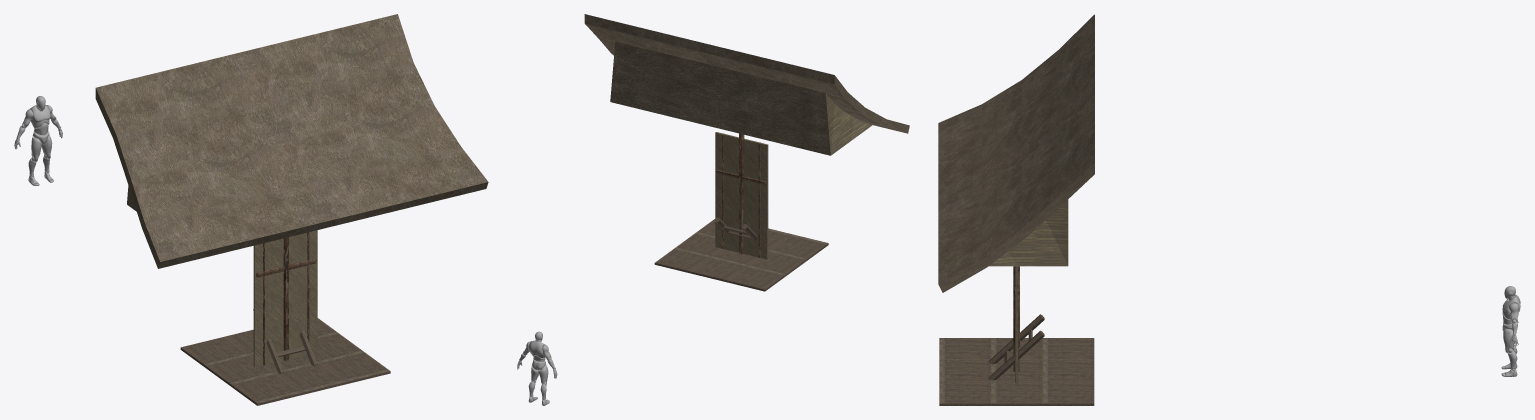
File: HouseModular.fbx
3 views of the same model, side by side, from view 1: azimuth 30°, elevation 25°; view 2: azimuth 150°, elevation 25°; view 3: azimuth 270°, elevation 25° (orthographic). The views are drawn at different scales.
Parts seen in each view (by area): view 1: roof, floorLarge, wall_support, wall_diagonal, UE4guy, wall_main, frame_pillar, stairs, floorSmall; view 2: roofBase, roof, floorLarge, wall_support, wall_main, wall_diagonal, UE4guy, frame_pillar, floorSmall, stairs; view 3: roof, floorLarge, roofBase, UE4guy, stairs, floorSmall.
Part boxes in pixels (<box>): roof: <box>95,14,488,268</box>; floorLarge: <box>180,318,390,405</box>; wall_support: <box>263,232,309,365</box>; wall_diagonal: <box>253,230,317,367</box>; UE4guy: <box>14,96,62,185</box>; wall_main: <box>266,233,307,361</box>; frame_pillar: <box>283,237,288,360</box>; stairs: <box>253,309,317,373</box>; floorSmall: <box>251,354,319,373</box>; roofBase: <box>610,41,872,155</box>; roof: <box>584,14,909,133</box>; floorLarge: <box>654,219,828,291</box>; wall_support: <box>722,133,760,257</box>; wall_main: <box>723,134,759,257</box>; wall_diagonal: <box>715,132,768,259</box>; UE4guy: <box>517,331,557,405</box>; frame_pillar: <box>739,133,744,254</box>; floorSmall: <box>713,249,770,264</box>; stairs: <box>715,217,757,240</box>; roof: <box>938,14,1094,292</box>; floorLarge: <box>939,338,1094,405</box>; roofBase: <box>989,199,1068,266</box>; UE4guy: <box>1501,286,1520,376</box>; stairs: <box>988,314,1044,380</box>; floorSmall: <box>991,360,1042,381</box>.
Size of the model in its own units: 740 by 656 by 1126.
